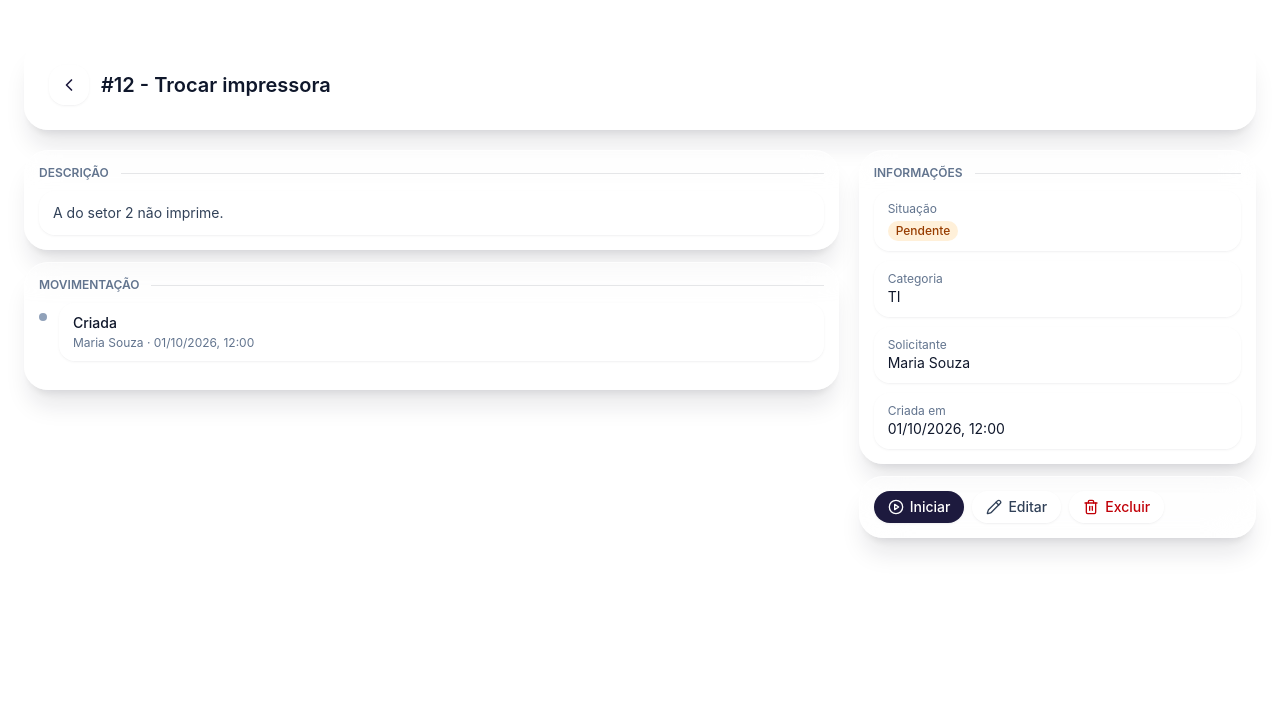
Test case: DemandDetailView › mostra a mensagem da API quando a ação é recusada
Click the button "Iniciar" at (919, 507), box [874,491,964,523]
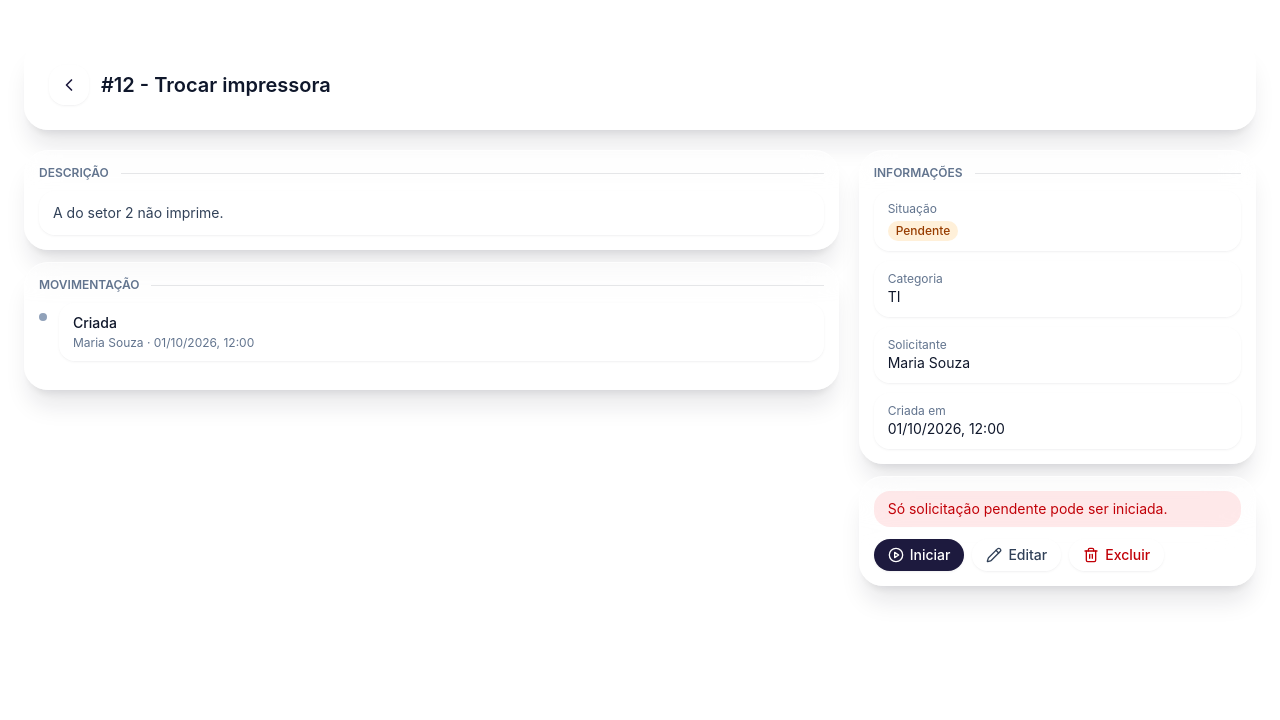
Now the element named "Ações da solicitação" shows "Só solicitação pendente pode ser iniciada.", box [888,500,1168,517]
